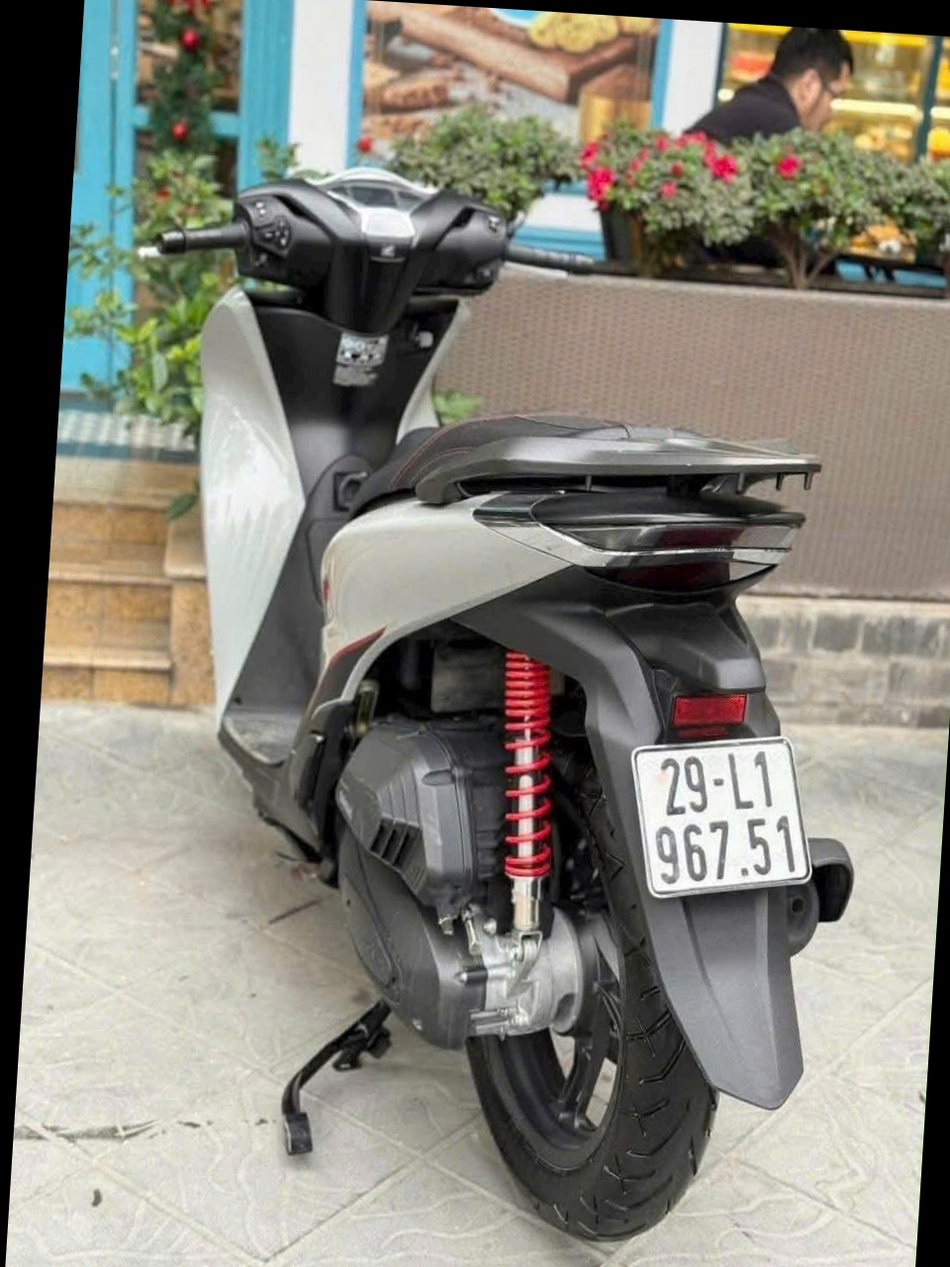Bien-so: (619, 702, 836, 900)
